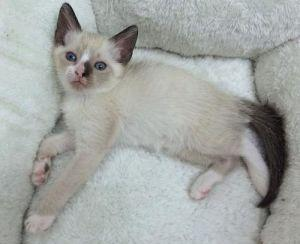siamese: (50, 2, 142, 102)
